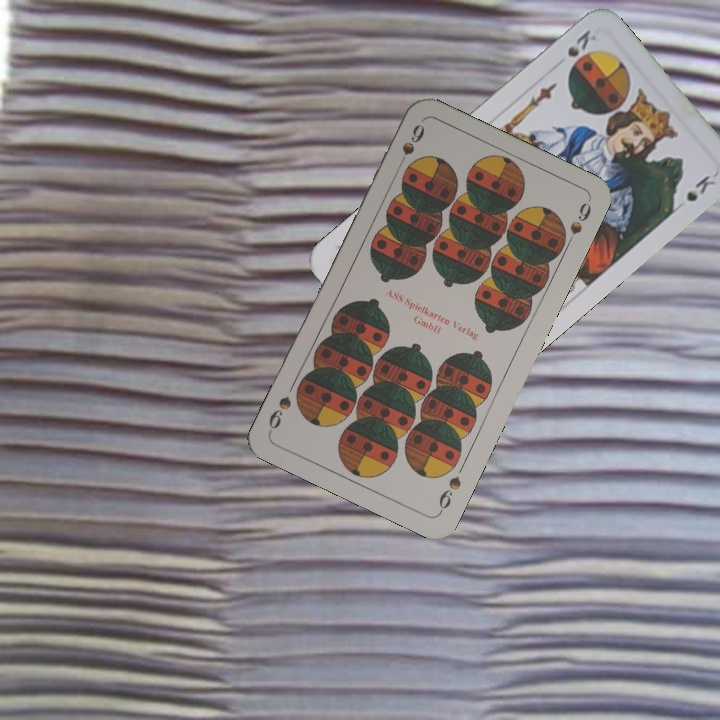S9: (392, 120, 427, 174), (434, 472, 464, 516)
SK: (563, 25, 599, 60)
